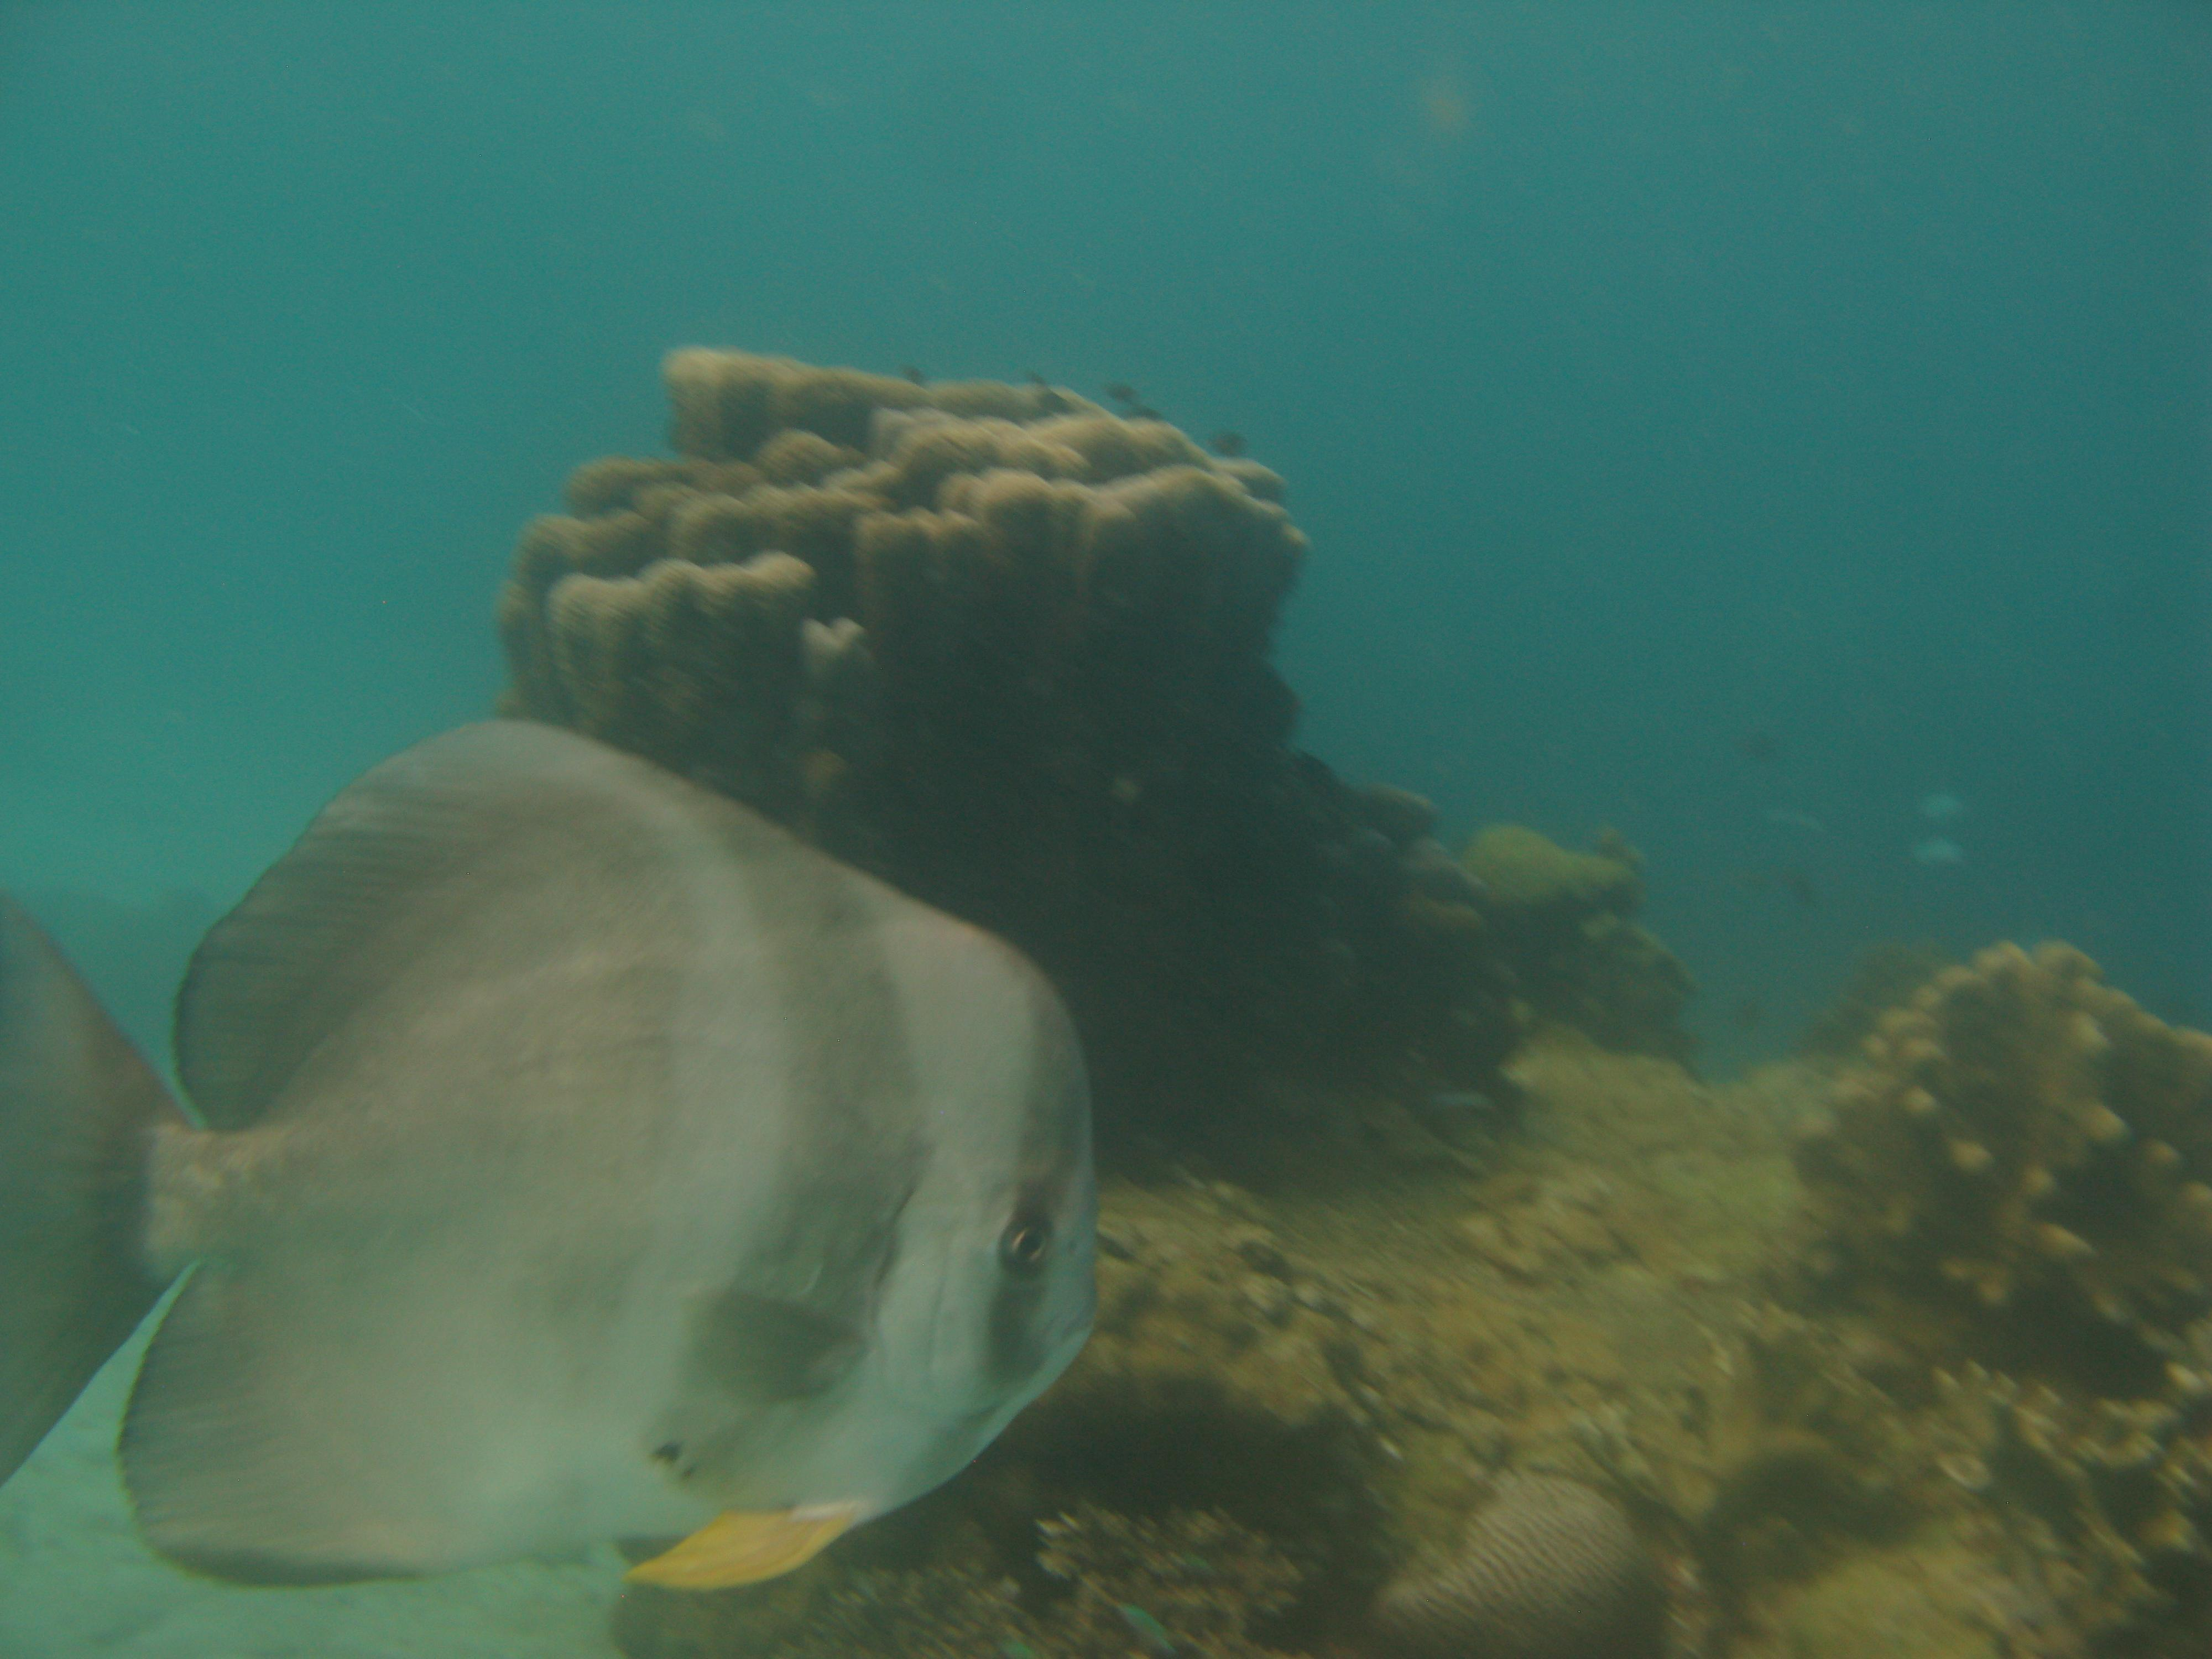Fish: (0, 701, 1109, 1659)
